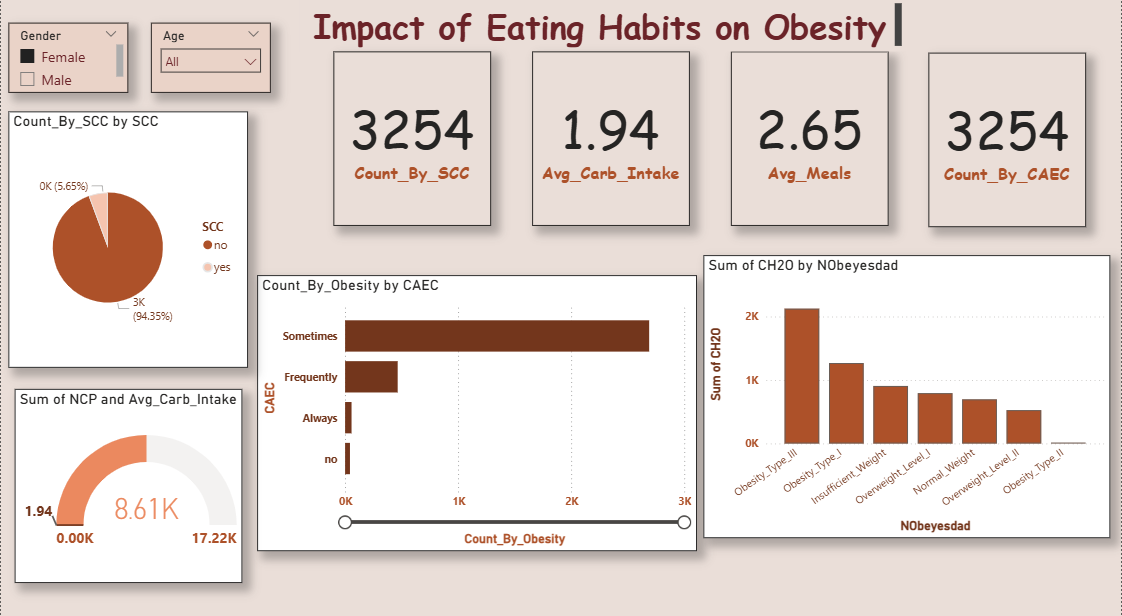

Layout of this report page (visuals, bound fields, positions):
{"tool":"powerbi","page":{"name":"report 2","canvas":[1280,720],"ordinal":1},"visuals":[{"type":"card","fields":{"Values":["ObesityDataSet_clean.Avg_Meals"]},"box":[834.4,60,180,198.9],"z":0},{"type":"textbox","box":[341.1,0,693.3,60],"z":1000},{"type":"card","fields":{"Values":["ObesityDataSet_clean.Count_By_CAEC"]},"box":[1060,61.1,180,198.9],"z":2000},{"type":"card","fields":{"Values":["ObesityDataSet_clean.Count_By_SCC"]},"box":[380,60,180,198.9],"z":3000},{"type":"card","fields":{"Values":["ObesityDataSet_clean.Avg_Carb_Intake"]},"box":[607.8,60,180,198.9],"z":4000},{"type":"clusteredBarChart","fields":{"Category":["ObesityDataSet_clean.CAEC"],"Y":["ObesityDataSet_clean.Count_By_Obesity"]},"box":[292.5,316.2,502.5,315],"z":5000},{"type":"pieChart","fields":{"Category":["ObesityDataSet_clean.SCC"],"Y":["ObesityDataSet_clean.Count_By_SCC"]},"box":[8.8,128.8,273.8,292.5],"z":6000},{"type":"clusteredColumnChart","fields":{"Y":["Sum(ObesityDataSet_clean.CH2O)"],"Category":["ObesityDataSet_clean.NObeyesdad"]},"box":[802.2,292.2,464.4,323.3],"z":7000},{"type":"gauge","fields":{"Y":["Sum(ObesityDataSet_clean.NCP)"],"TargetValue":["ObesityDataSet_clean.Avg_Carb_Intake"]},"box":[15,445,260,221.2],"z":8000},{"type":"slicer","fields":{"Values":["ObesityDataSet_clean.Gender"]},"box":[8.9,26.7,136.7,80],"z":9000},{"type":"slicer","fields":{"Values":["ObesityDataSet_clean.Age"]},"box":[171.1,26.7,136.7,80],"z":10000}]}

Visuals, with their boxes in screenshot pixels (x1, y1, x2, y2), scaled from the page's 1280x720 canvas onto the 1122x616 screenshot:
card - ObesityDataSet_clean.Avg_Meals: 731/51/889/222
textbox: 299/0/907/51
card - ObesityDataSet_clean.Count_By_CAEC: 929/52/1087/222
card - ObesityDataSet_clean.Count_By_SCC: 333/51/491/222
card - ObesityDataSet_clean.Avg_Carb_Intake: 533/51/691/222
clusteredBarChart - ObesityDataSet_clean.CAEC x ObesityDataSet_clean.Count_By_Obesity: 256/271/697/540
pieChart - ObesityDataSet_clean.SCC x ObesityDataSet_clean.Count_By_SCC: 8/110/248/360
clusteredColumnChart - Sum(ObesityDataSet_clean.CH2O) x ObesityDataSet_clean.NObeyesdad: 703/250/1110/527
gauge - Sum(ObesityDataSet_clean.NCP) x ObesityDataSet_clean.Avg_Carb_Intake: 13/381/241/570
slicer - ObesityDataSet_clean.Gender: 8/23/128/91
slicer - ObesityDataSet_clean.Age: 150/23/270/91
